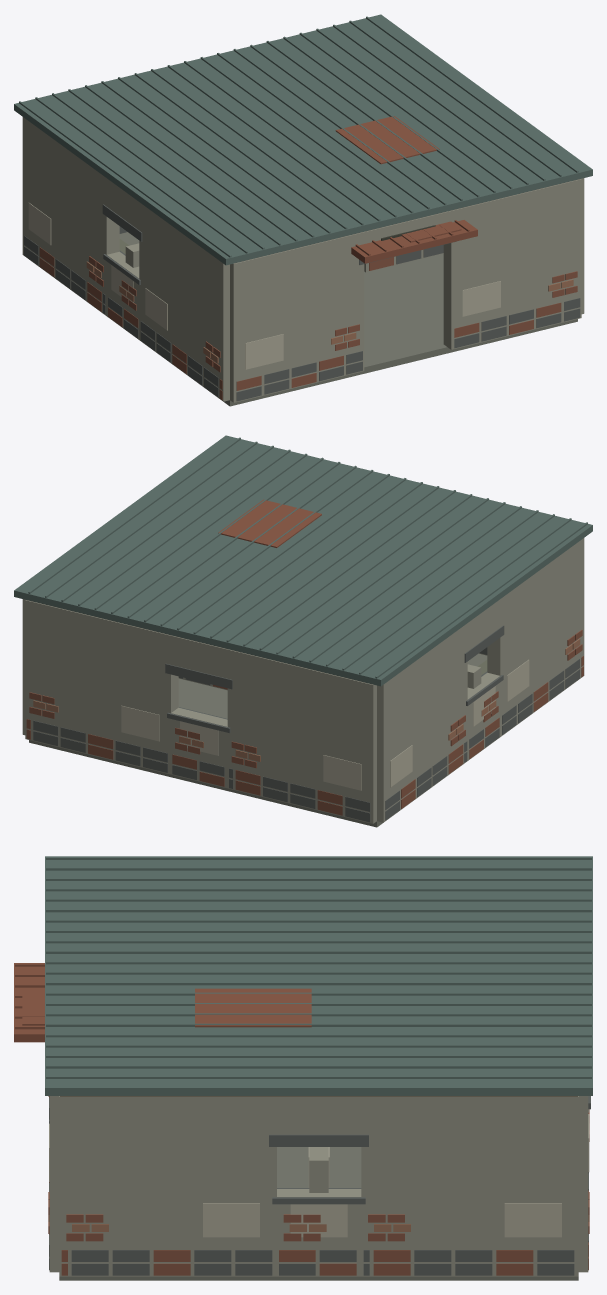
File: FSA_ENV_Quarantine_Building_01_Shelter.glb
3 renders of one model, top to bottom at view 1: azimuth 30°, elevation 25°; view 2: azimuth 150°, elevation 25°; view 3: azimuth 270°, elevation 25°, orthographic. The views are drawn at different scales.
Parts seen in each view (by area): view 1: Roof_Main, FrontRight, FrontLeft, WestRight, WestLeft, Floor, RoofPatch_331, Roof_Awning, WestSill, Repair_17, Repair_41, FrontLintel (+27 smaller); view 2: Roof_Main, BackLeft, BackRight, WestLeft, WestRight, Floor, RoofPatch_331, BackSill, BackLintel, WestSill, Repair_61, Repair_87 (+28 smaller); view 3: Roof_Main, EastLeft, EastRight, Floor, RoofPatch_331, EastLintel, EastSill, RoofRib_310, RoofRib_312, RoofRib_313, RoofRib_314, RoofRib_315 (+27 smaller).
Part boxes in pixels (left/top/right/bottom): Roof_Main: left=14, top=14, right=592, bottom=265; FrontRight: left=443, top=179, right=581, bottom=349; FrontLeft: left=230, top=232, right=364, bottom=402; WestRight: left=139, top=202, right=229, bottom=401; WestLeft: left=22, top=117, right=119, bottom=315; Floor: left=119, top=232, right=577, bottom=406; RoofPatch_331: left=335, top=116, right=439, bottom=164; Roof_Awning: left=351, top=220, right=477, bottom=263; WestSill: left=106, top=251, right=139, bottom=339; Repair_17: left=245, top=334, right=283, bottom=369; Repair_41: left=462, top=281, right=500, bottom=316; FrontLintel: left=364, top=210, right=451, bottom=243; Roof_Main: left=14, top=435, right=592, bottom=686; BackLeft: left=227, top=649, right=376, bottom=823; BackRight: left=25, top=600, right=178, bottom=774; WestLeft: left=377, top=623, right=467, bottom=822; WestRight: left=487, top=538, right=584, bottom=736; Floor: left=29, top=653, right=487, bottom=827; RoofPatch_331: left=218, top=499, right=321, bottom=547; BackSill: left=171, top=707, right=227, bottom=788; BackLintel: left=171, top=635, right=227, bottom=678; WestSill: left=467, top=672, right=500, bottom=760; Repair_61: left=323, top=755, right=361, bottom=790; Repair_87: left=121, top=705, right=159, bottom=741; Roof_Main: left=45, top=856, right=592, bottom=1095; EastLeft: left=361, top=1096, right=578, bottom=1276; EastRight: left=59, top=1096, right=276, bottom=1276; Floor: left=59, top=1147, right=578, bottom=1280; RoofPatch_331: left=195, top=988, right=311, bottom=1027; EastLintel: left=277, top=1096, right=361, bottom=1134; EastSill: left=277, top=1189, right=361, bottom=1276; RoofRib_310: left=46, top=867, right=591, bottom=870; RoofRib_312: left=46, top=888, right=591, bottom=891; RoofRib_313: left=46, top=898, right=591, bottom=901; RoofRib_314: left=46, top=909, right=591, bottom=912; RoofRib_315: left=46, top=919, right=591, bottom=922.
Bounding box in the file's own units: 8.44 × 3.42 × 8.92.
